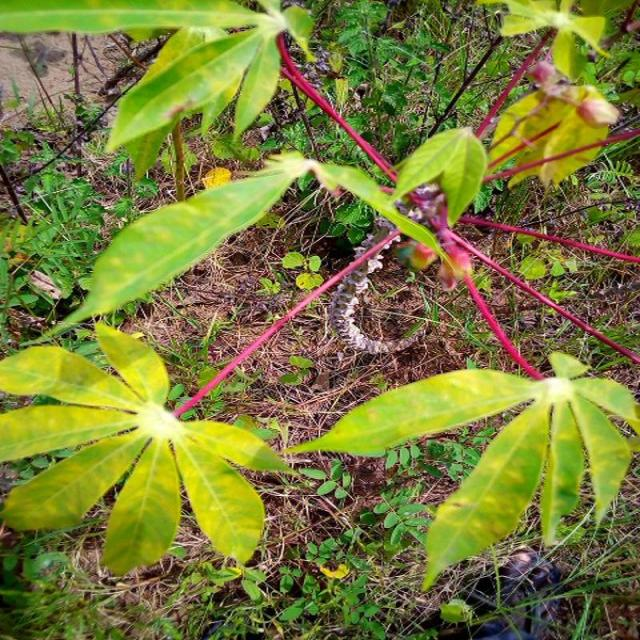cassava leaf: (286, 349, 638, 590), (0, 319, 293, 576), (33, 148, 310, 342)
